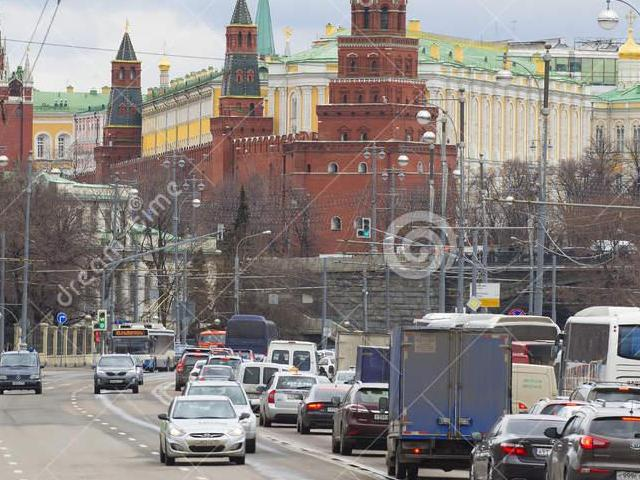bus: (553, 298, 640, 429), (94, 317, 180, 368), (222, 314, 276, 361)
car: (460, 408, 580, 480), (543, 403, 640, 480), (149, 392, 249, 462), (172, 377, 262, 444), (331, 380, 400, 454), (567, 374, 640, 428), (294, 377, 356, 426), (265, 364, 319, 417), (266, 331, 319, 383), (92, 338, 140, 395), (0, 339, 47, 397), (235, 358, 284, 405), (199, 362, 228, 393)
truck: (385, 323, 511, 480), (329, 326, 394, 385), (351, 338, 396, 388)
